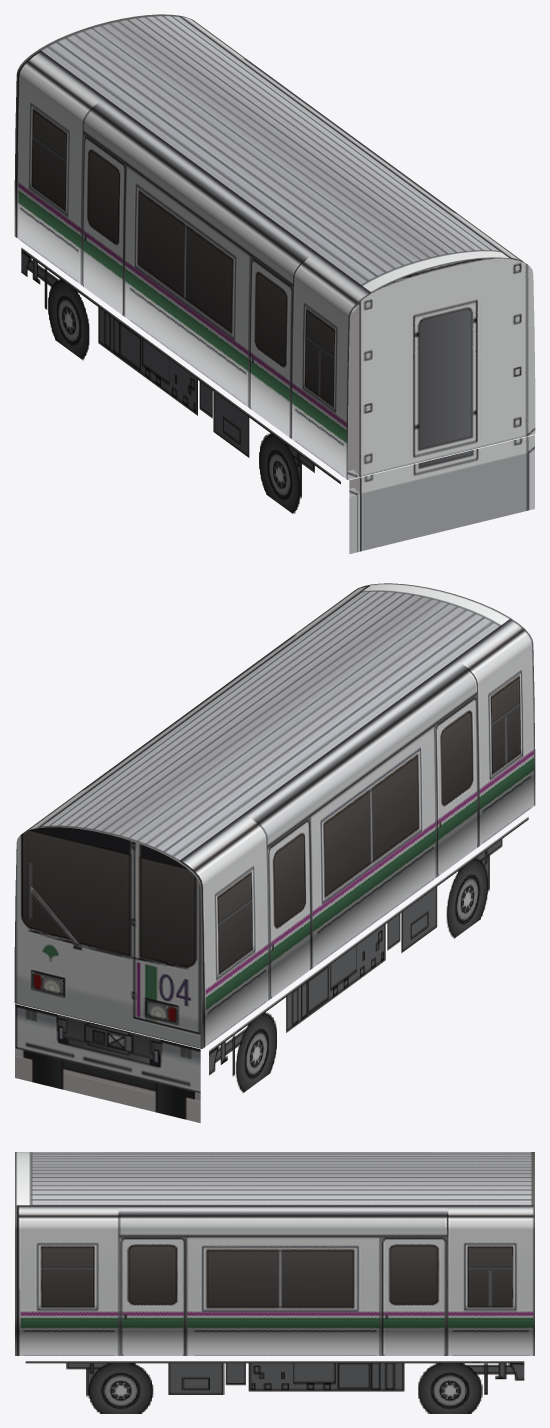
File: car3.glb
3 views of the same model, one above another, from view 1: azimuth 30°, elevation 25°; view 2: azimuth 150°, elevation 25°; view 3: azimuth 270°, elevation 25° (orthographic). The views are drawn at different scales.
Visible parts, largest first — view 1: nipporitoneri-300; view 2: nipporitoneri-300; view 3: nipporitoneri-300.
Part boxes in pixels (<box>): nipporitoneri-300: <box>14,14,535,553</box>; nipporitoneri-300: <box>14,583,535,1122</box>; nipporitoneri-300: <box>15,1152,534,1413</box>.
Bounding box in the file's own units: 2.47 × 3.34 × 7.62.
Materials: 8 (7 with a texture image).
